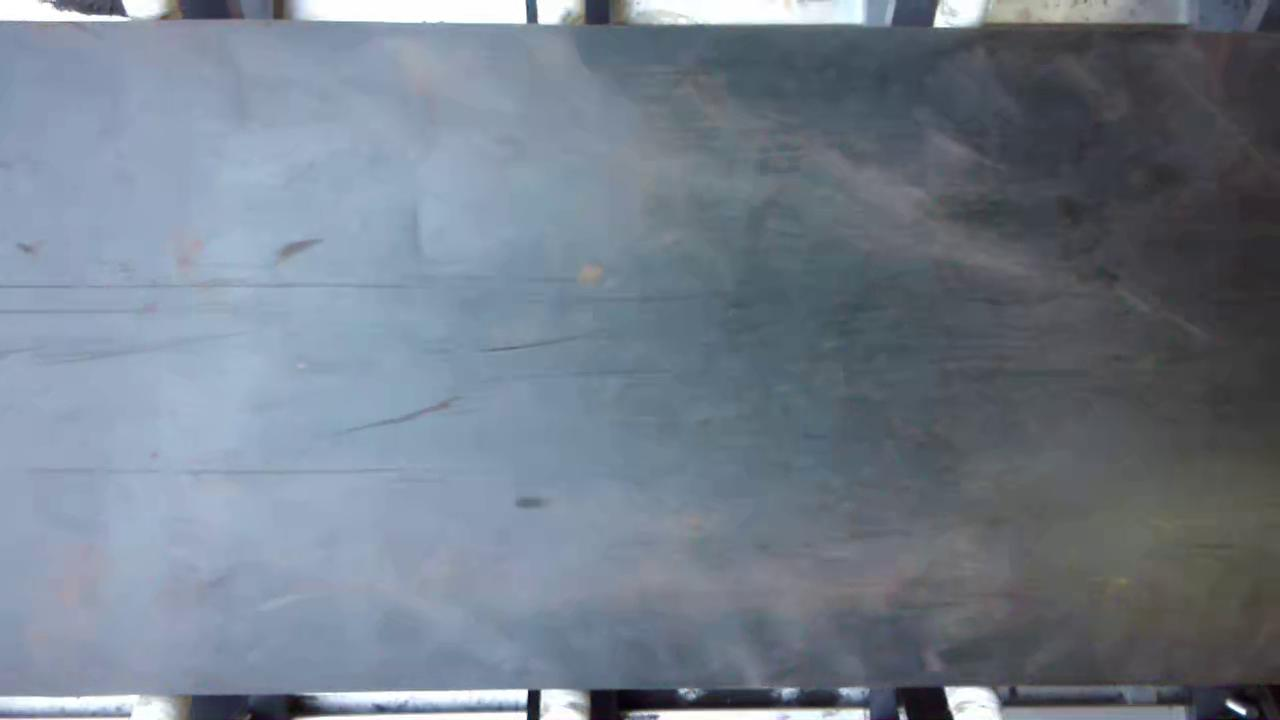conveyor: (0, 27, 1280, 686)
